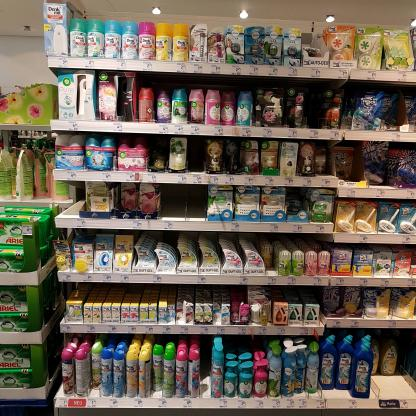Void: (160, 184, 206, 220), (374, 376, 415, 399), (56, 182, 81, 217), (188, 139, 202, 172), (149, 136, 169, 158)
